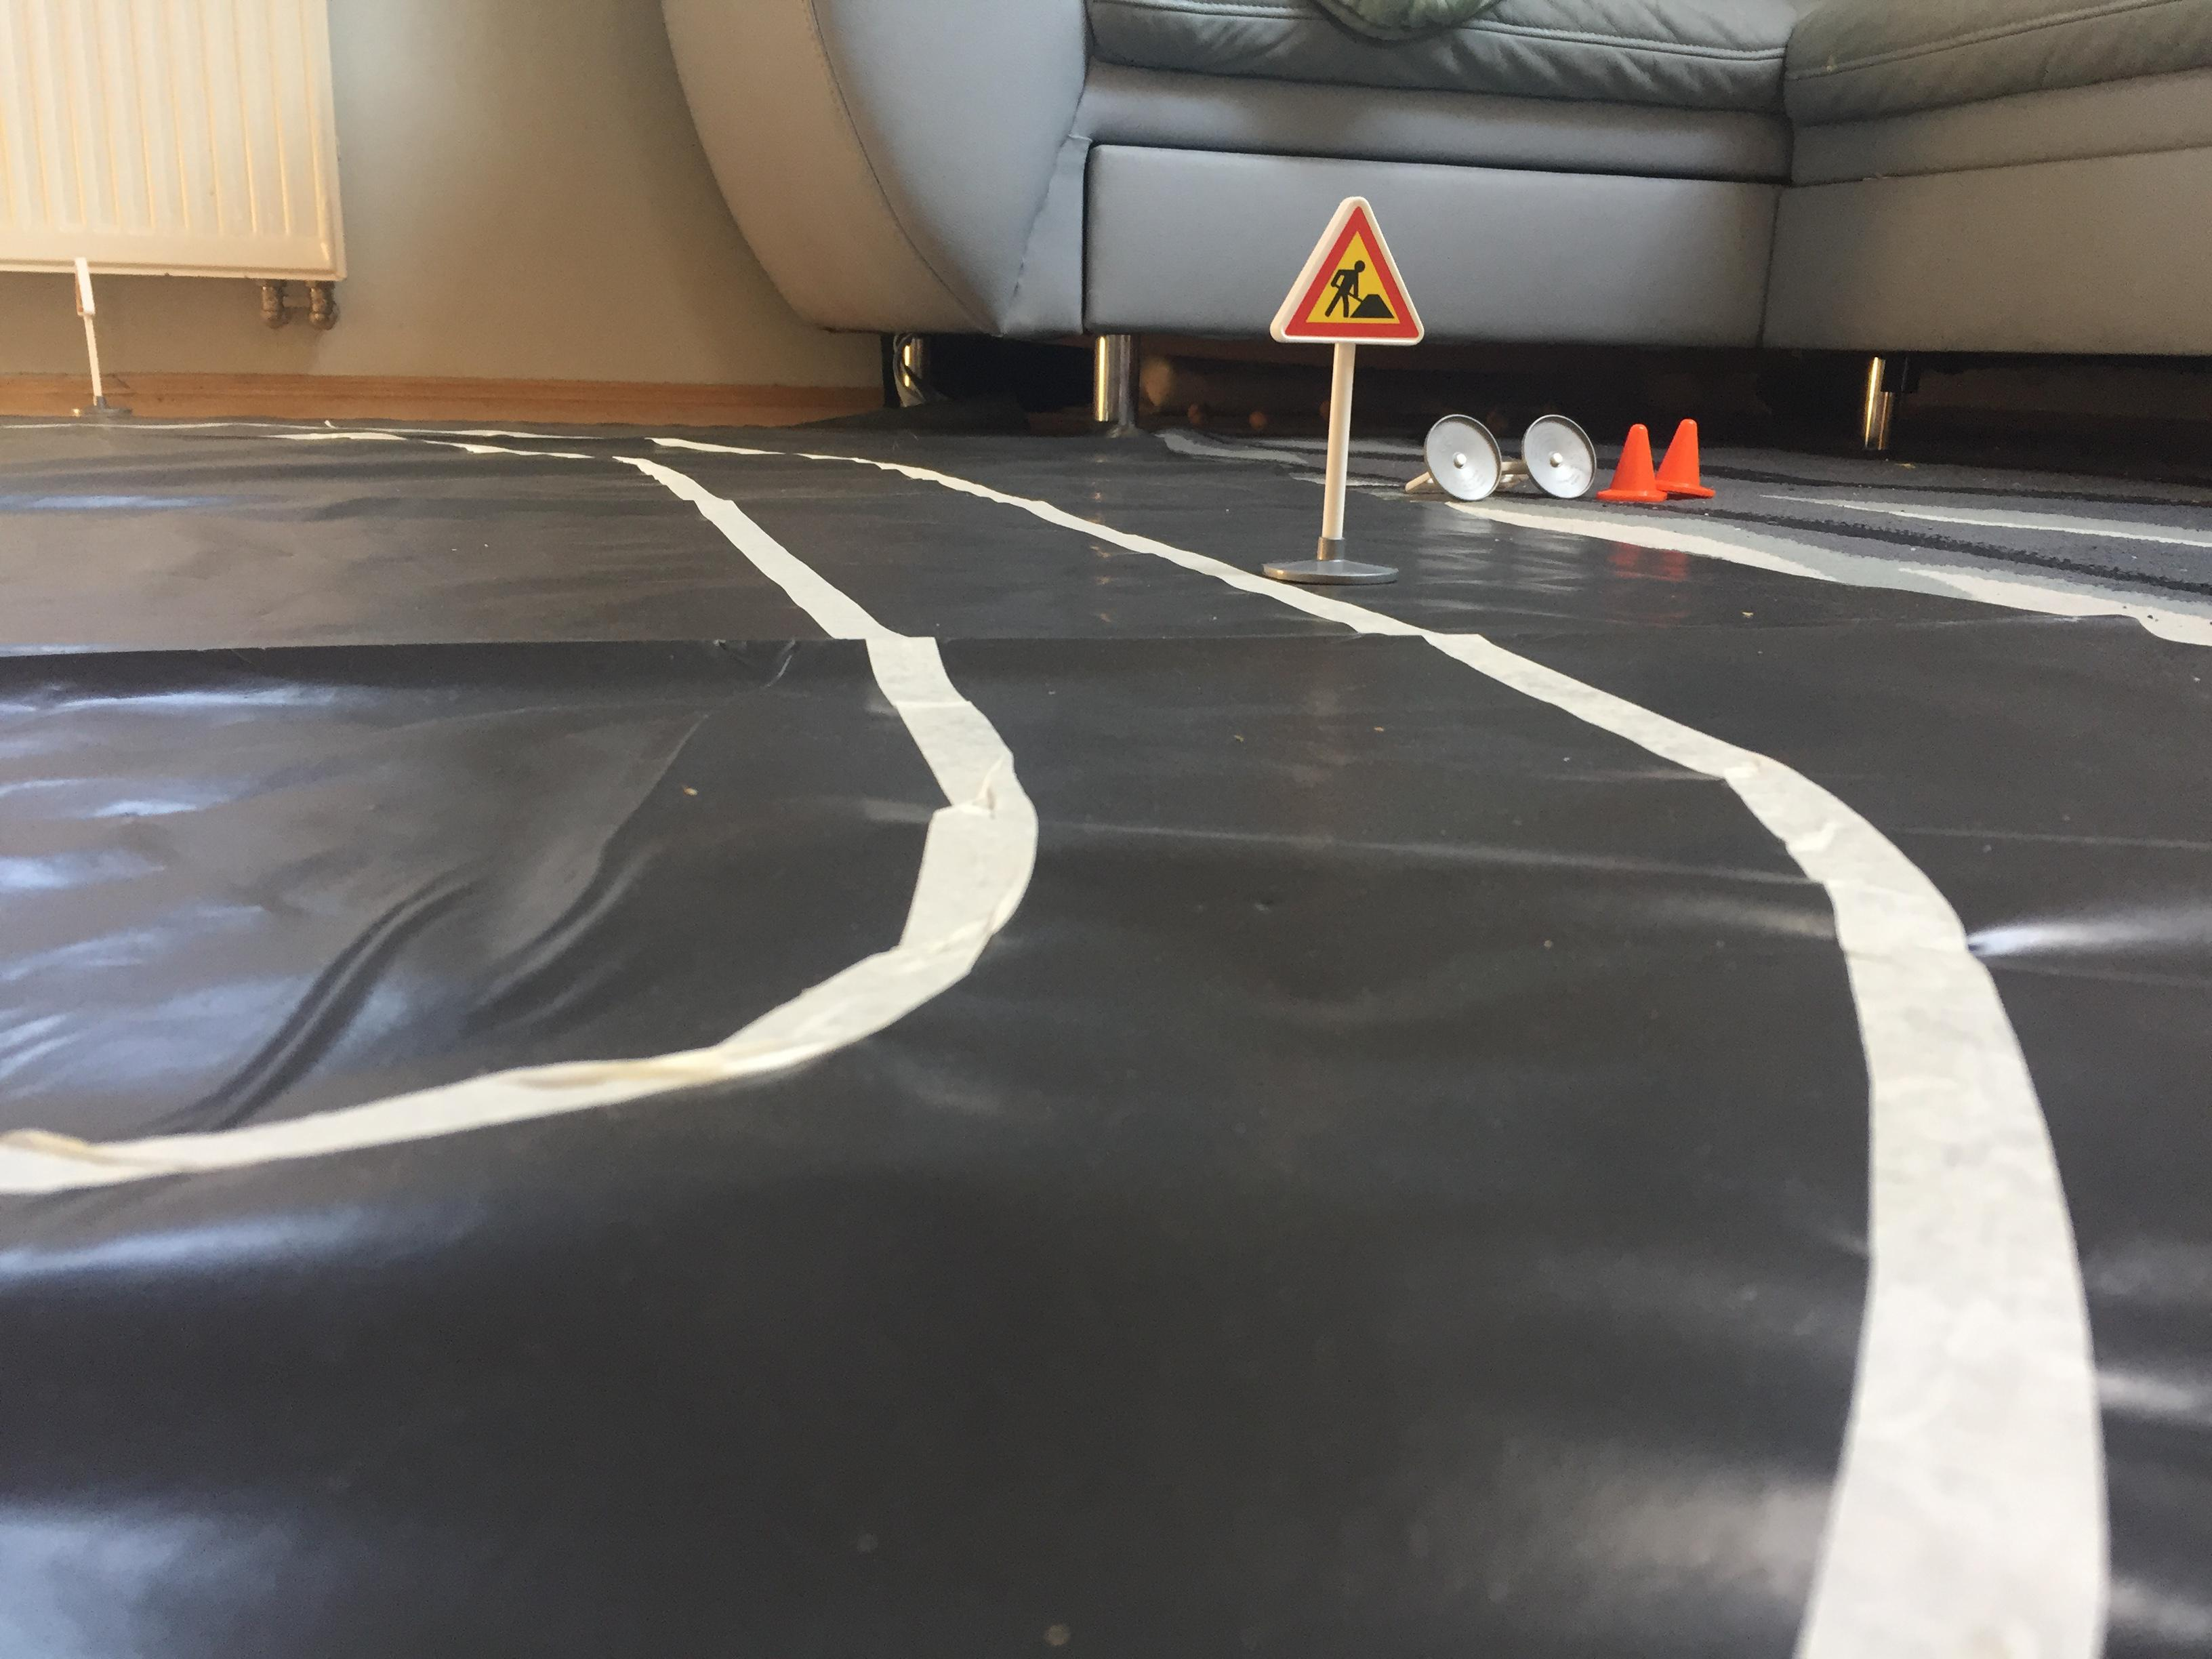work: (1252, 195, 1430, 352)
